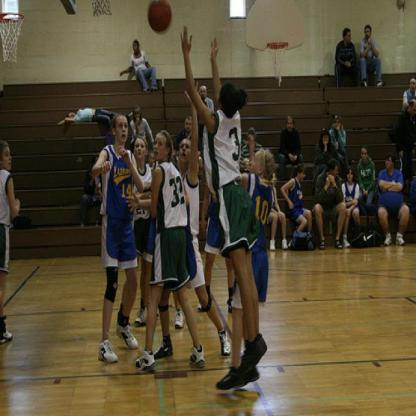basketball: (145, 0, 176, 35)
